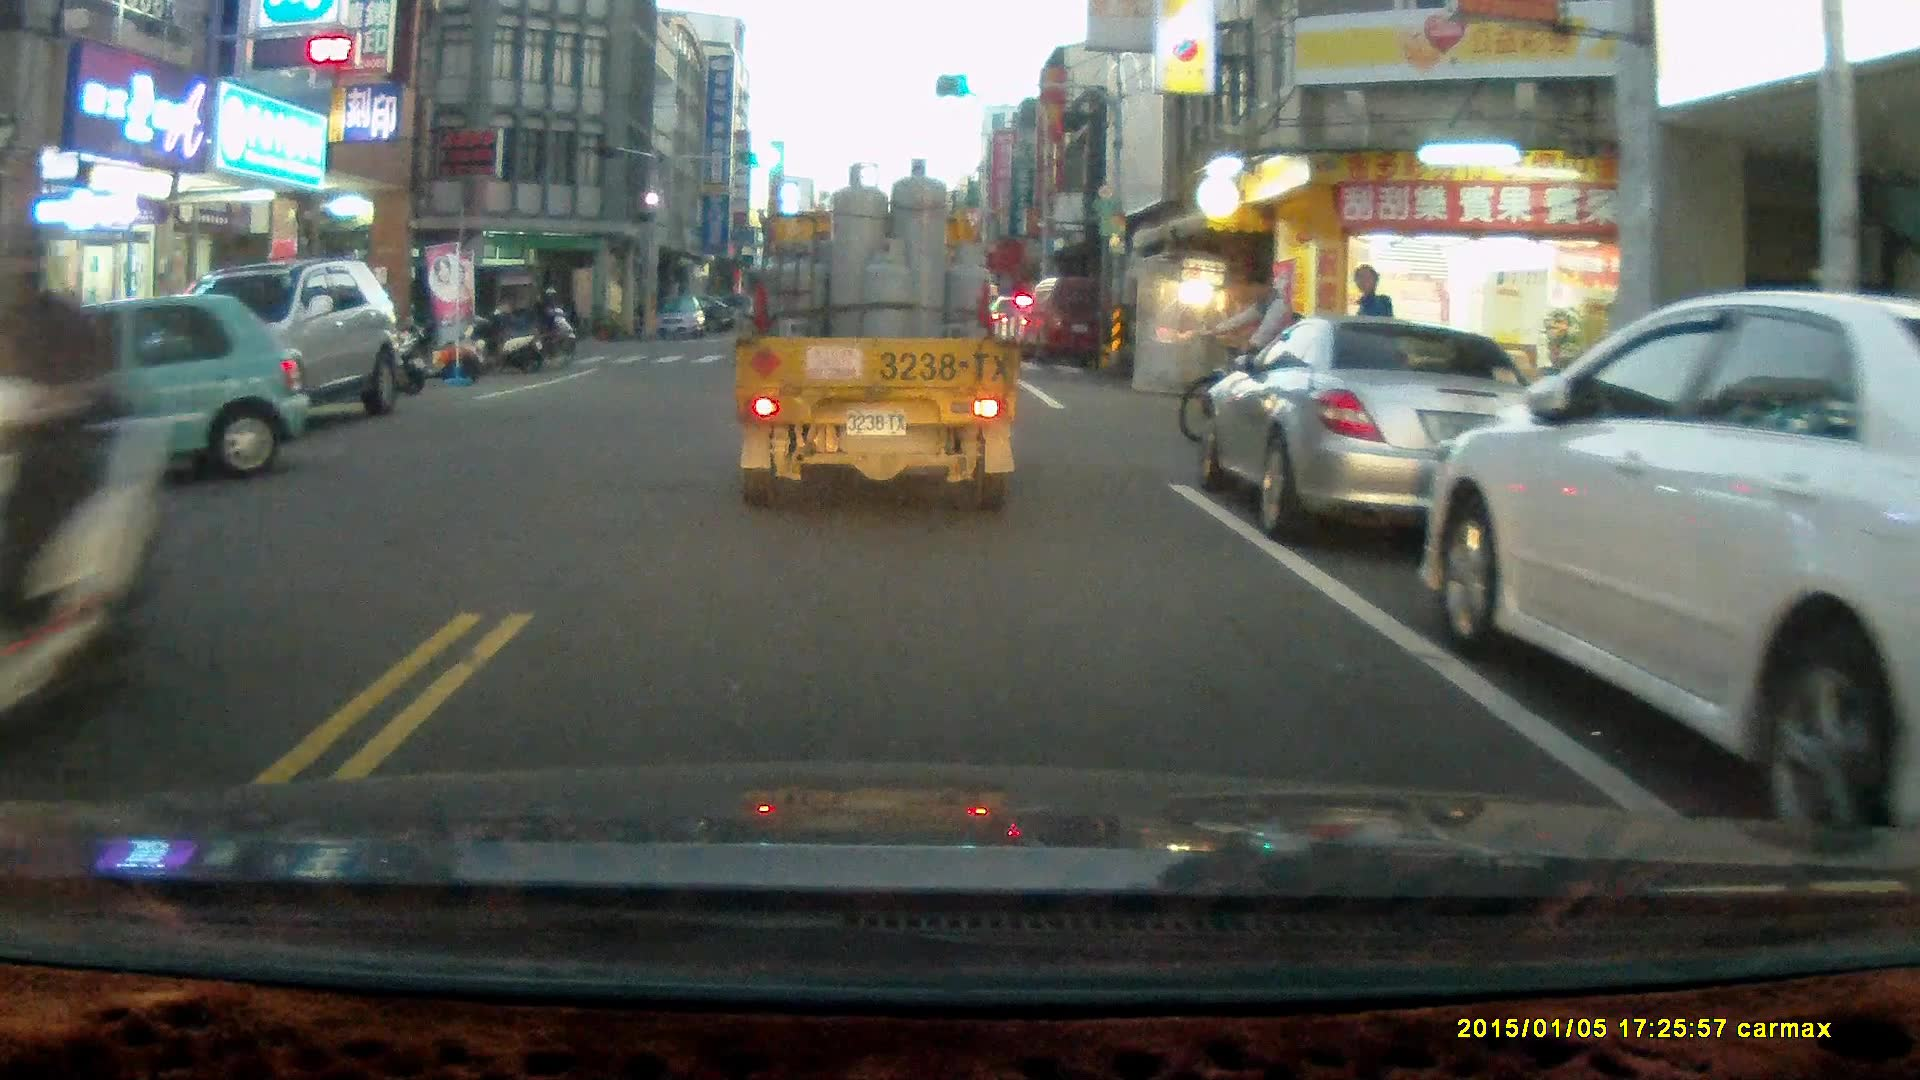rider: (0, 221, 173, 771), (1180, 271, 1341, 452), (517, 284, 580, 358)
vehicle: (1421, 284, 1920, 819), (734, 161, 1024, 515), (1203, 320, 1571, 542), (1, 293, 308, 486), (145, 257, 402, 433), (333, 261, 542, 365), (1025, 272, 1129, 369), (655, 295, 709, 342)
